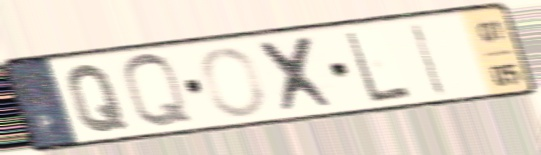I: (408, 20, 450, 99)
L: (342, 28, 415, 106)
O: (198, 45, 269, 119)
Q: (119, 50, 198, 132), (64, 61, 131, 135)
X: (253, 32, 343, 117)
